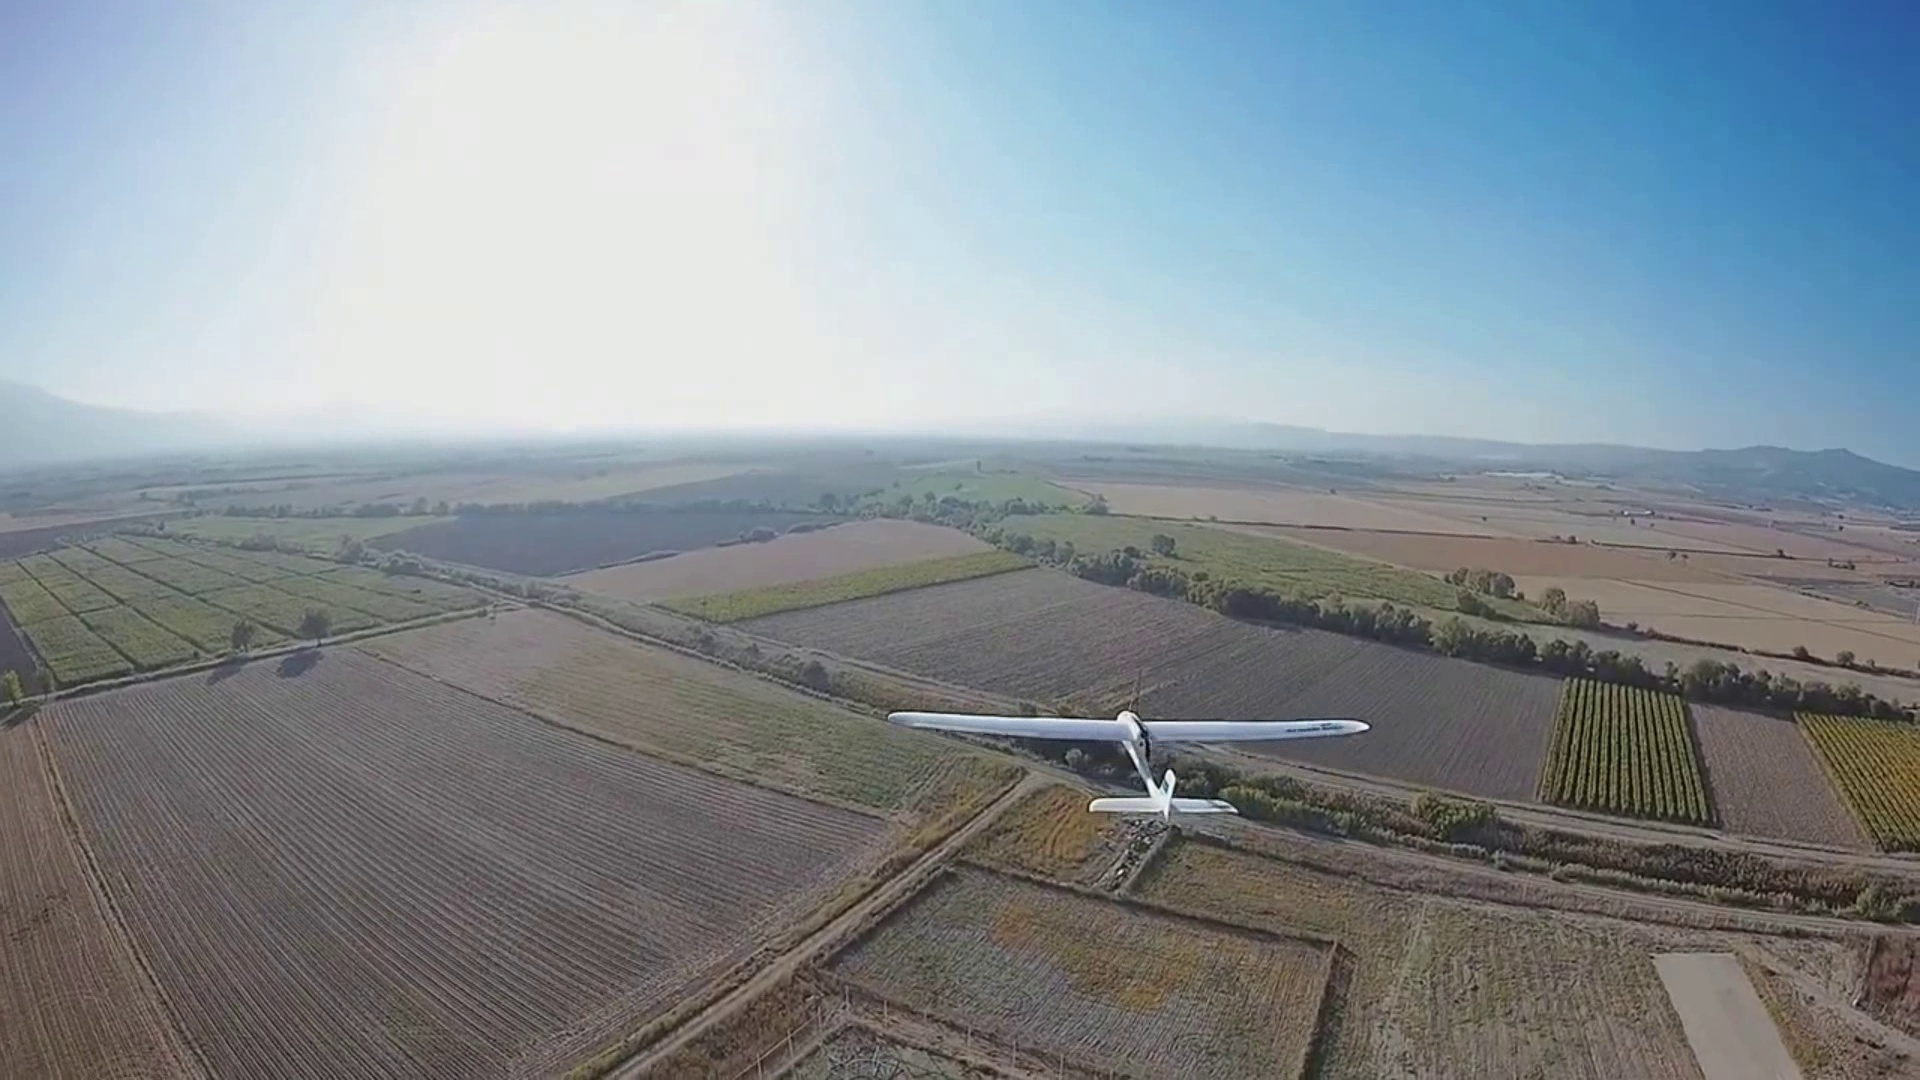airplane: (882, 699, 1371, 823)
